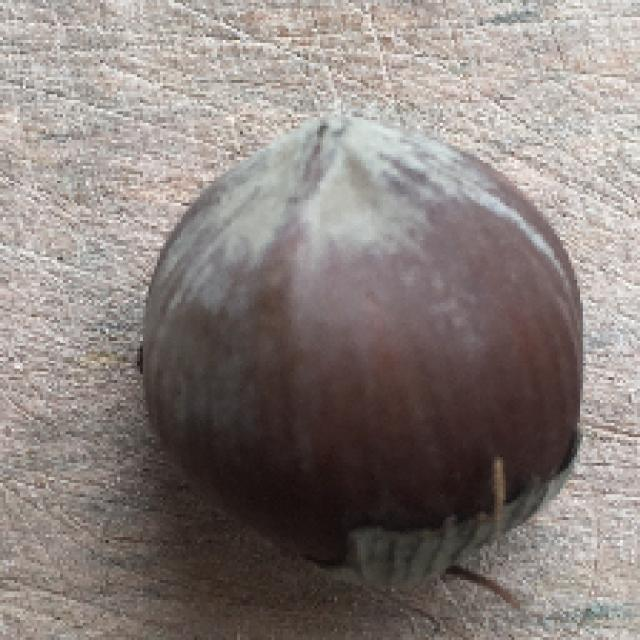damagedHazelnut: (141, 121, 591, 573)
